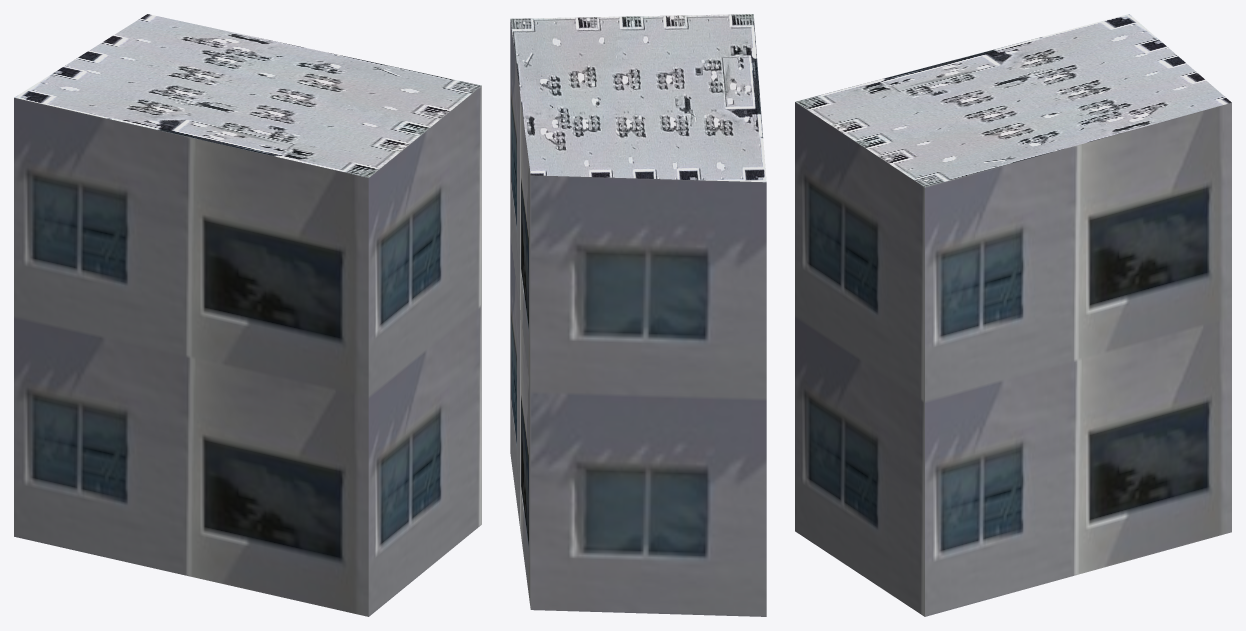
The model's file is ResTex__4766.fbx.
3 renders of one model, left to right at view 1: azimuth 30°, elevation 25°; view 2: azimuth 150°, elevation 25°; view 3: azimuth 270°, elevation 25°, orthographic. The views are drawn at different scales.
Parts seen in each view (by area): view 1: CityEngineMaterial_10_m, CityEngineMaterial_4_m; view 2: CityEngineMaterial_10_m, CityEngineMaterial_4_m; view 3: CityEngineMaterial_10_m, CityEngineMaterial_4_m.
Boxes of the visible parts, <box> form: CityEngineMaterial_10_m: <box>14,86,481,616</box>; CityEngineMaterial_4_m: <box>14,14,481,177</box>; CityEngineMaterial_10_m: <box>510,19,766,616</box>; CityEngineMaterial_4_m: <box>510,14,766,182</box>; CityEngineMaterial_10_m: <box>795,102,1231,616</box>; CityEngineMaterial_4_m: <box>795,14,1231,187</box>.
Bounding box in the file's own units: 5.2 × 6 × 5.53.
2 materials, 2 textured.
